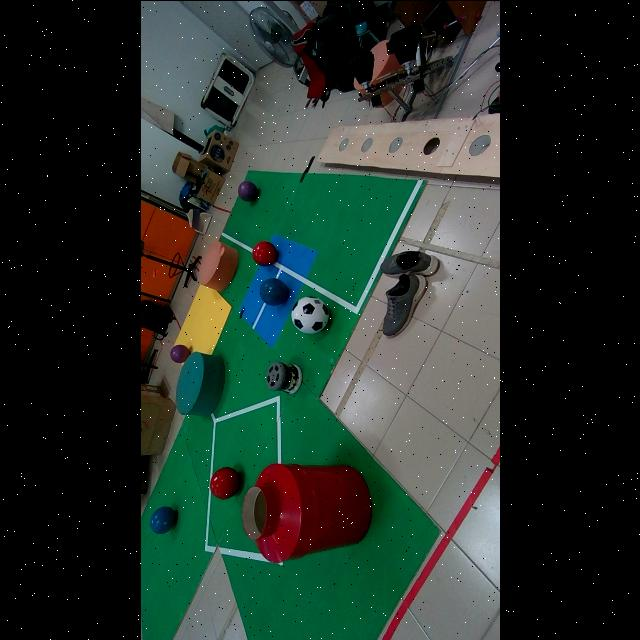B: (260, 278, 288, 305), (149, 506, 176, 533)
P: (237, 179, 258, 200), (169, 344, 190, 363)
R: (208, 466, 240, 499), (252, 241, 277, 266)
